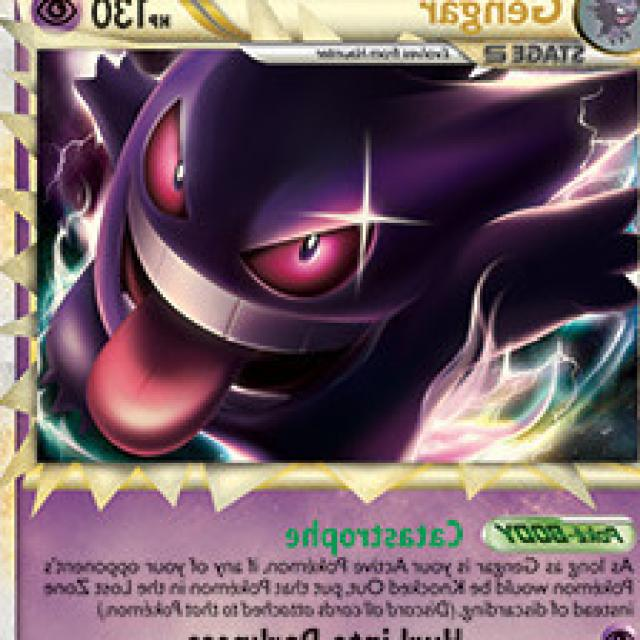Gengar: (34, 63, 640, 466)
